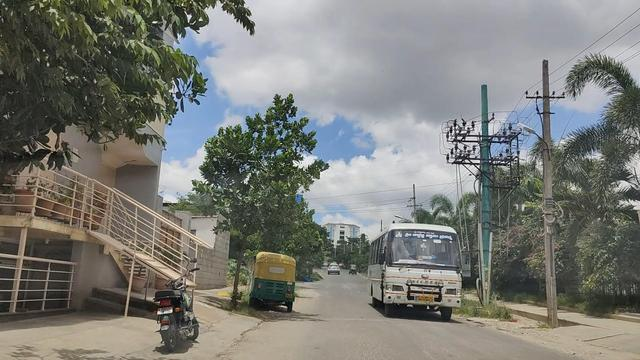HMV: (362, 213, 464, 321)
LMV: (149, 257, 206, 349)
